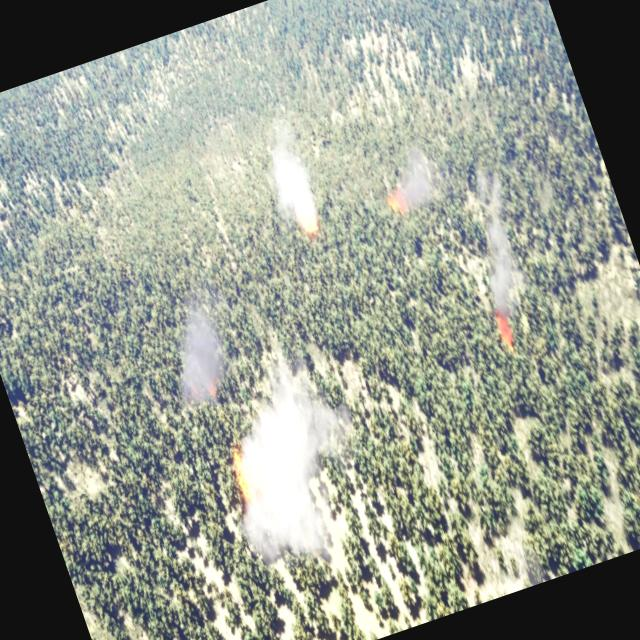fire: (225, 446, 274, 524), (489, 304, 525, 360), (381, 182, 408, 222), (296, 208, 322, 232)
smoke: (188, 326, 386, 573), (450, 168, 542, 316), (152, 300, 240, 412), (254, 122, 329, 248), (386, 148, 445, 218)
